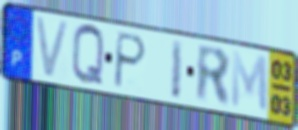I: (170, 38, 185, 102)
M: (230, 49, 270, 116)
P: (111, 30, 149, 91)
Q: (70, 22, 106, 89)
R: (196, 42, 232, 109)
V: (33, 15, 73, 82)
